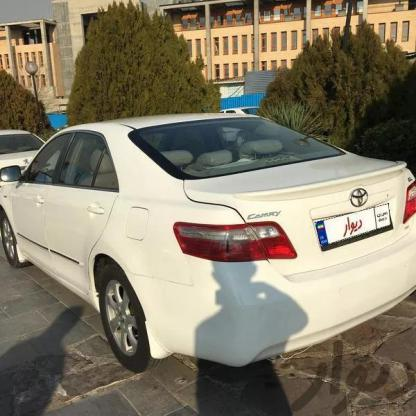Car: (0, 112, 416, 372), (0, 129, 45, 194)
